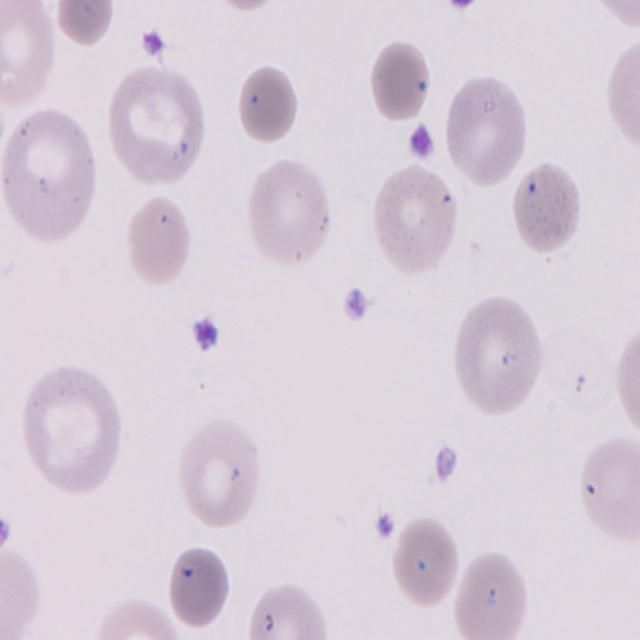RBC: (18, 352, 134, 516), (103, 60, 212, 188), (4, 105, 102, 243), (172, 415, 266, 532), (452, 295, 544, 414), (368, 159, 458, 275), (443, 72, 532, 188), (245, 154, 333, 270), (386, 514, 464, 613), (451, 548, 534, 640), (510, 163, 586, 257), (122, 193, 196, 287), (0, 0, 60, 115), (581, 437, 640, 547), (242, 582, 333, 640), (87, 597, 184, 640), (610, 33, 640, 169), (613, 312, 640, 444), (53, 1, 120, 50)
Spherocyte: (366, 40, 434, 132), (234, 62, 306, 148), (165, 541, 236, 628)
